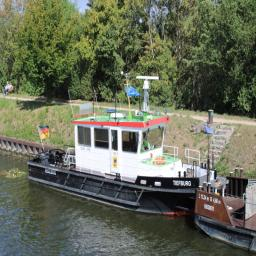tugboat: (27, 75, 220, 224)
